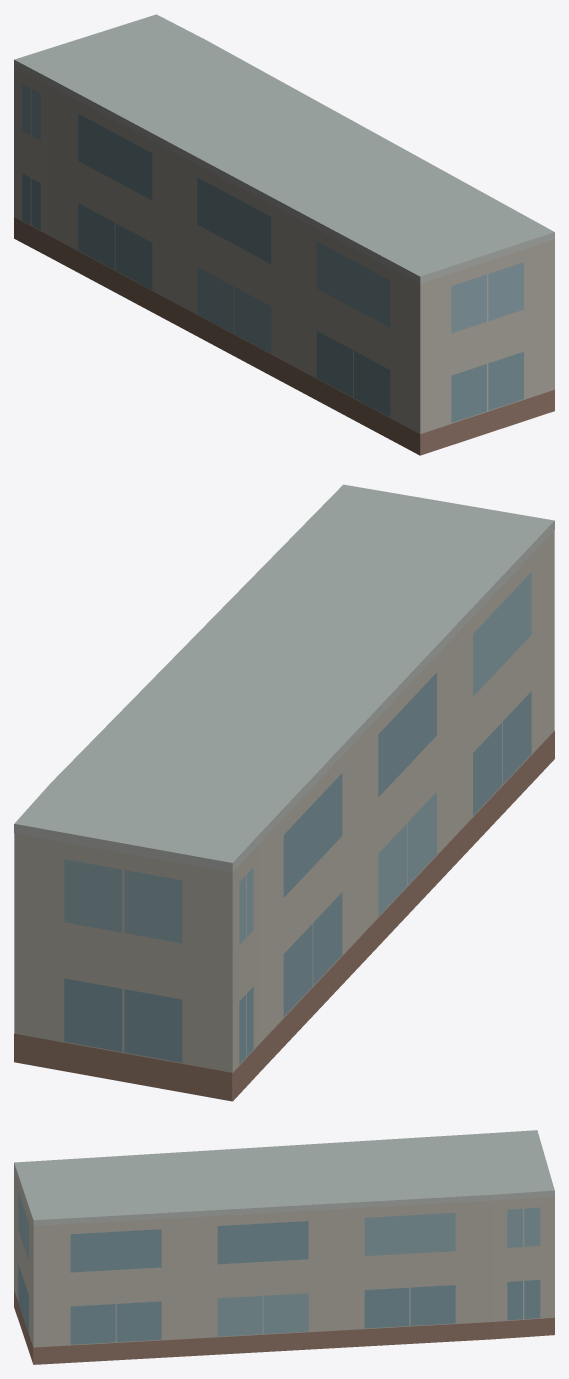
File: survey-upis-32576530.glb
3 renders of one model, top to bottom at view 1: azimuth 30°, elevation 25°; view 2: azimuth 150°, elevation 25°; view 3: azimuth 270°, elevation 25°, orthographic. The views are drawn at different scales.
Parts seen in each view (by area): view 1: survey-upis-32576530.tmp; view 2: survey-upis-32576530.tmp; view 3: survey-upis-32576530.tmp.
Boxes of the visible parts, <box> form: survey-upis-32576530.tmp: <box>14,14,554,455</box>; survey-upis-32576530.tmp: <box>14,484,554,1101</box>; survey-upis-32576530.tmp: <box>14,1130,554,1364</box>.
Bounding box in the file's own units: 8.17 × 6.1 × 20.69.
